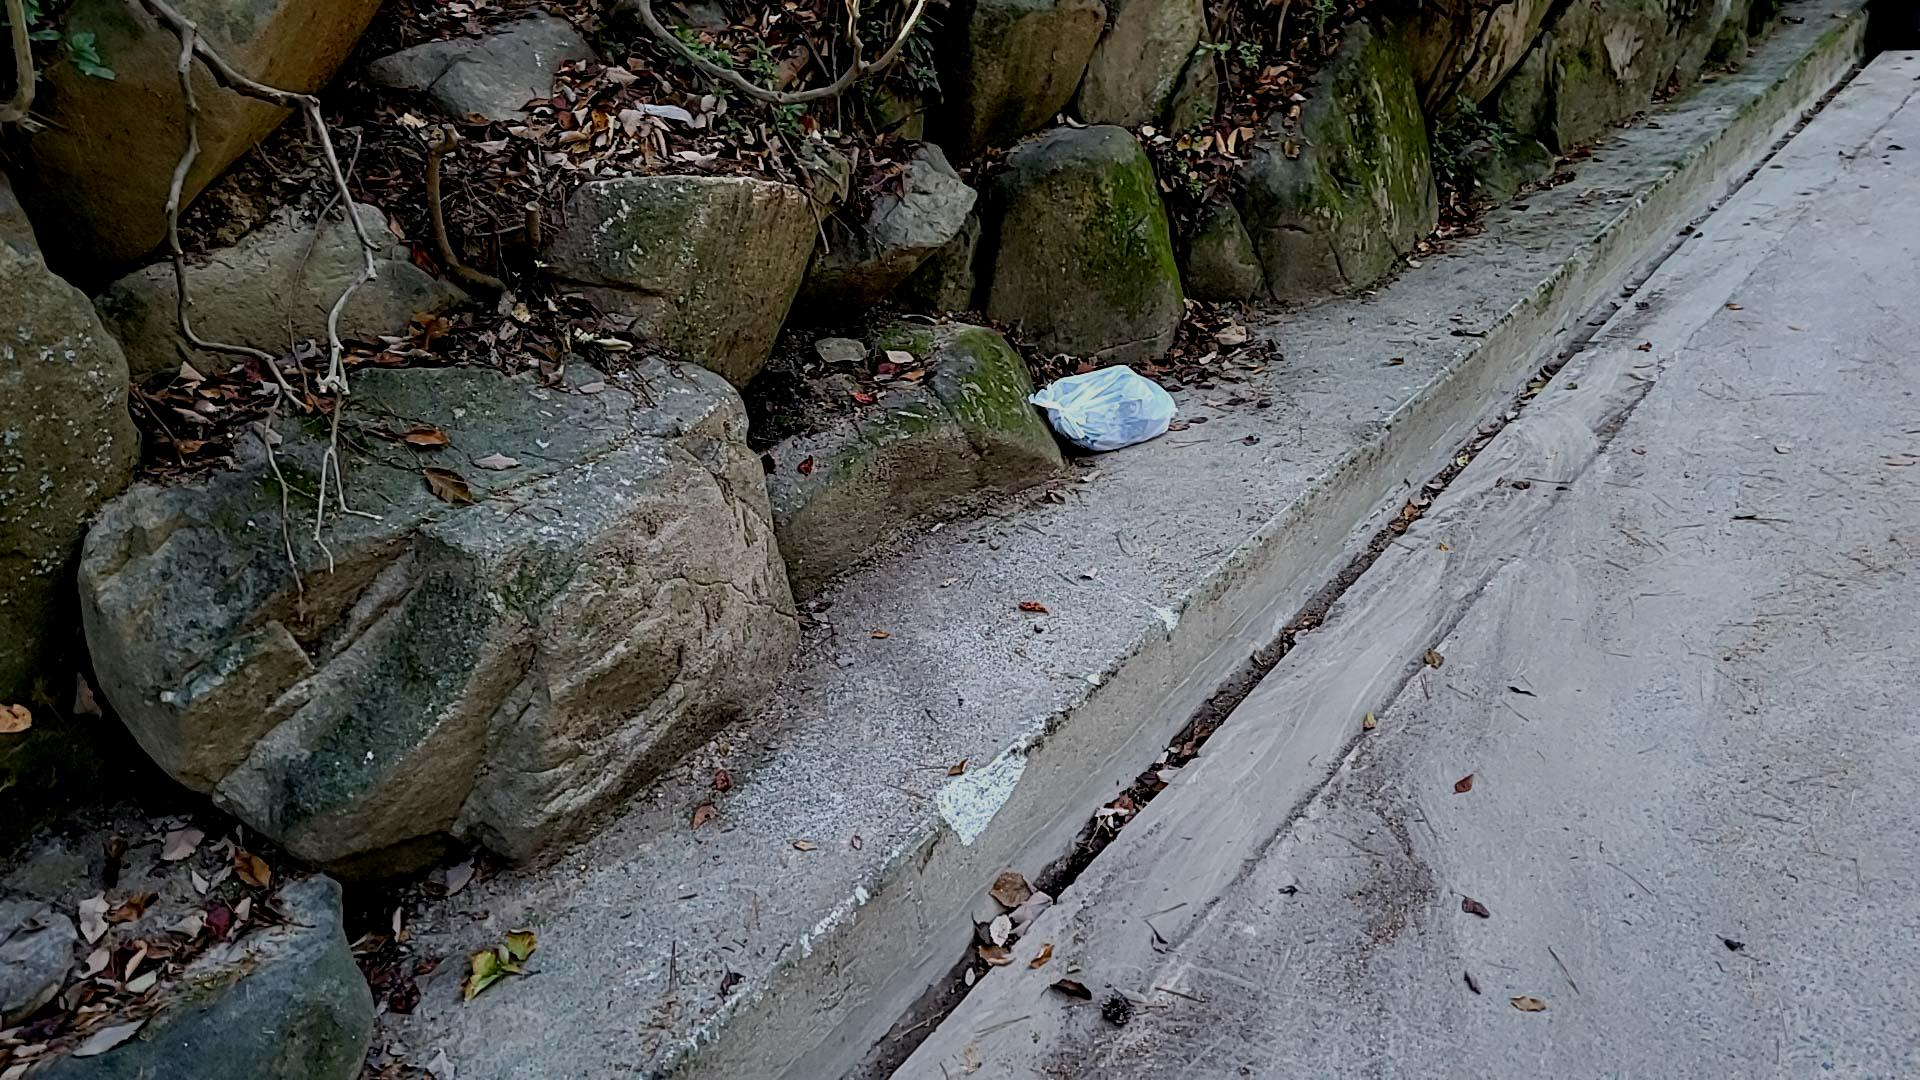white_bag: (1017, 360, 1183, 454)
